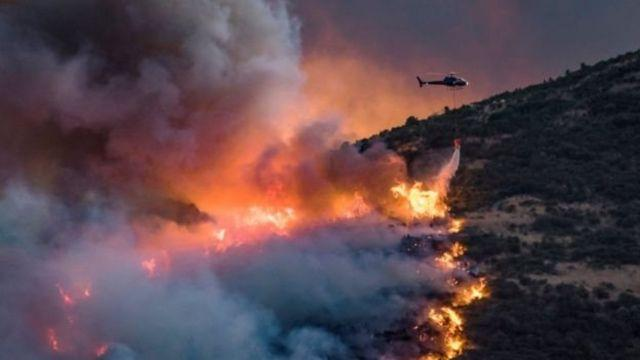fire: (373, 147, 498, 360), (125, 193, 328, 249), (29, 273, 131, 354)
